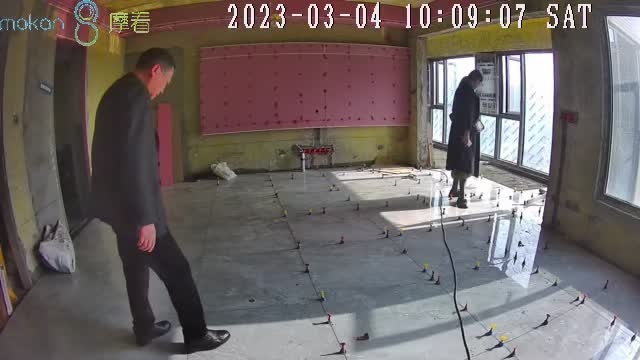people: (88, 48, 233, 351), (447, 70, 482, 208)
window: (429, 54, 555, 178), (600, 16, 640, 208)
